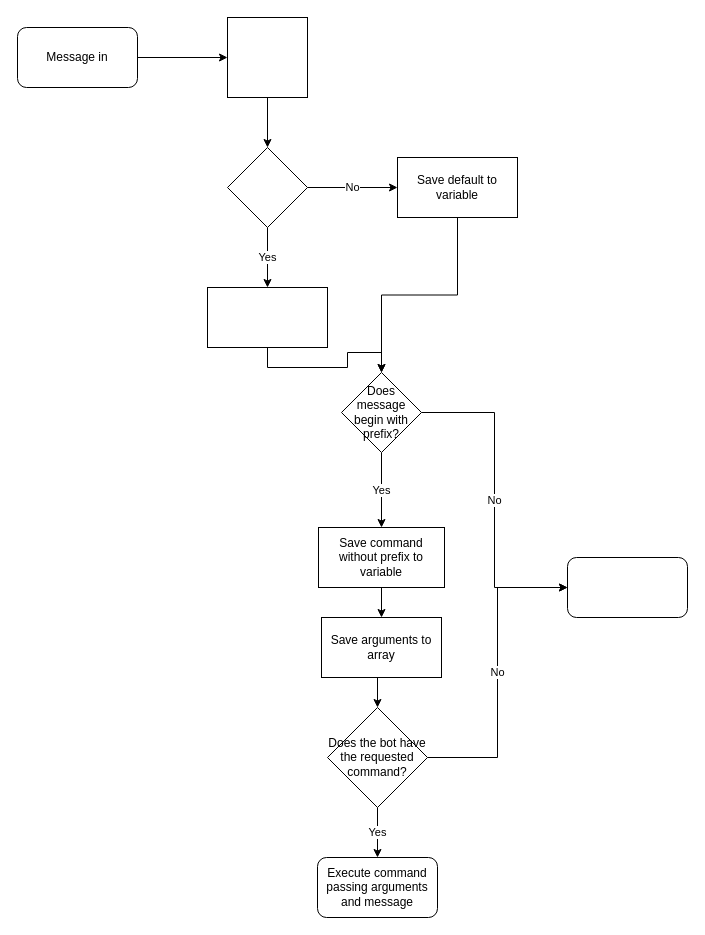
This 705x935 diagram has some shape labels left out. Here are the shapes that lost their labels. From the top down, the box of each, then its label:
(226, 16, 308, 98): Message Handler
(226, 146, 308, 228): Do we have prefix in DB?
(206, 286, 328, 348): Save prefix to variable
(566, 556, 688, 618): Stop
